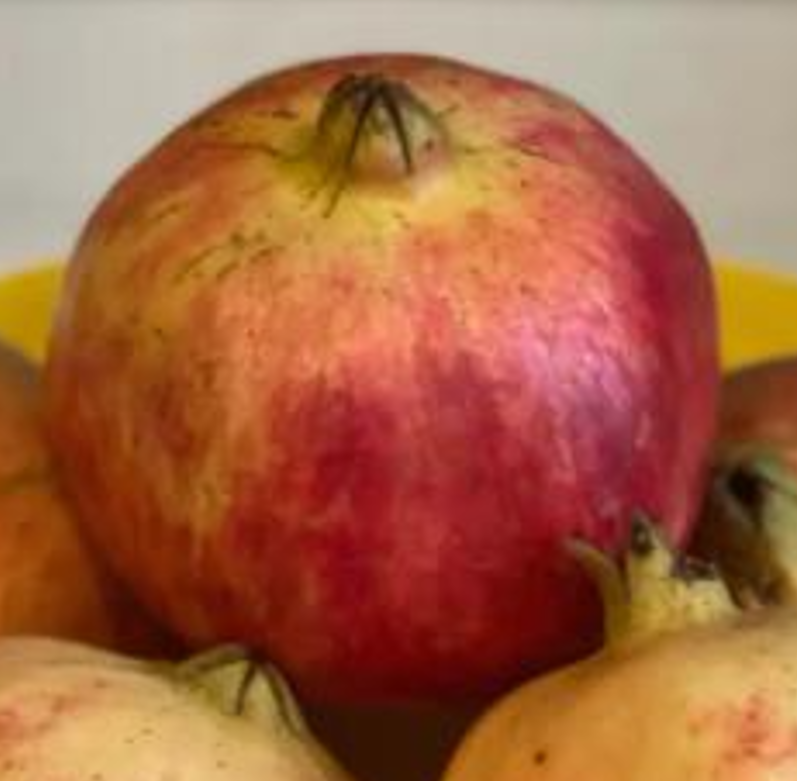pomegranate_A: (47, 52, 731, 718)
